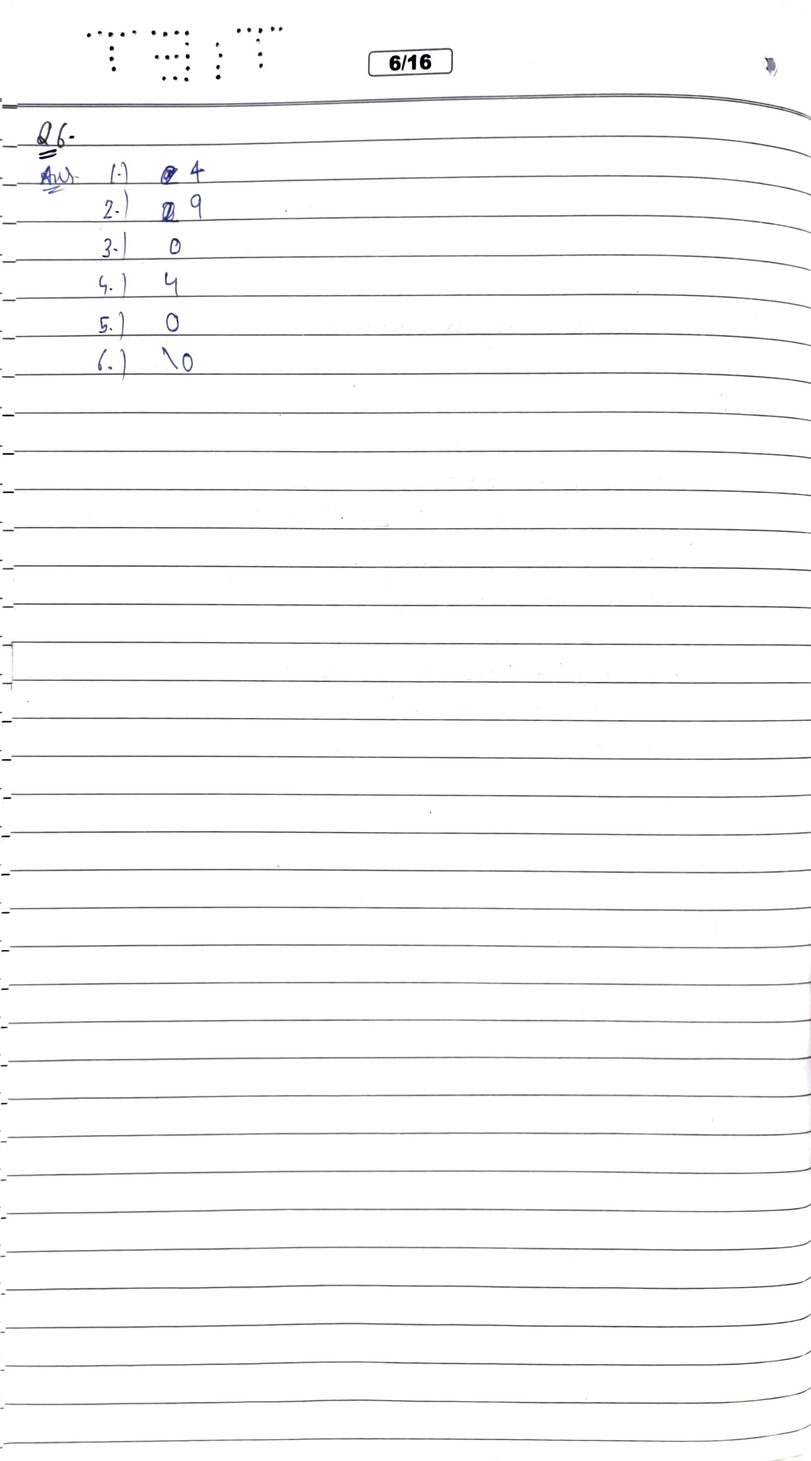cuttings: (160, 165, 180, 186), (160, 201, 179, 223)
